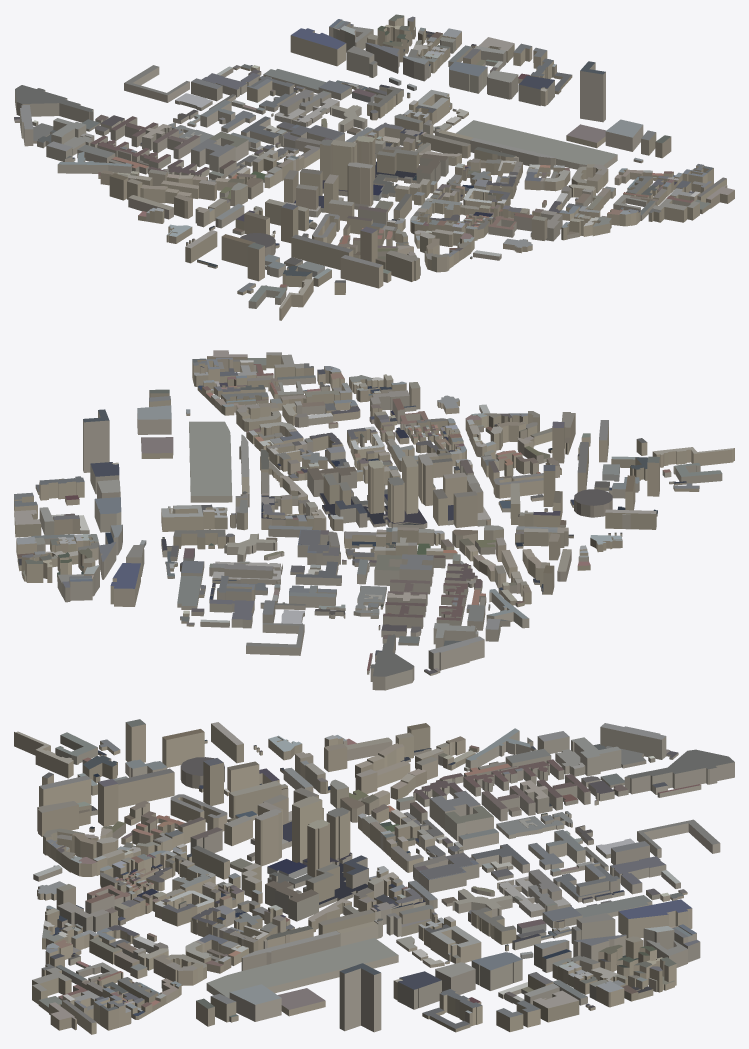
3 views of the same model, one above another, from view 1: azimuth 30°, elevation 25°; view 2: azimuth 150°, elevation 25°; view 3: azimuth 270°, elevation 25° (orthographic). The views are drawn at different scales.
Visible parts, largest first — view 1: tuile; view 2: tuile; view 3: tuile.
Part boxes in pixels (x1,y1,x2,y2): tuile: (14, 14, 734, 320); tuile: (14, 350, 734, 690); tuile: (14, 719, 734, 1034).
Bounding box in the file's own units: 1057 × 113 × 1115.
